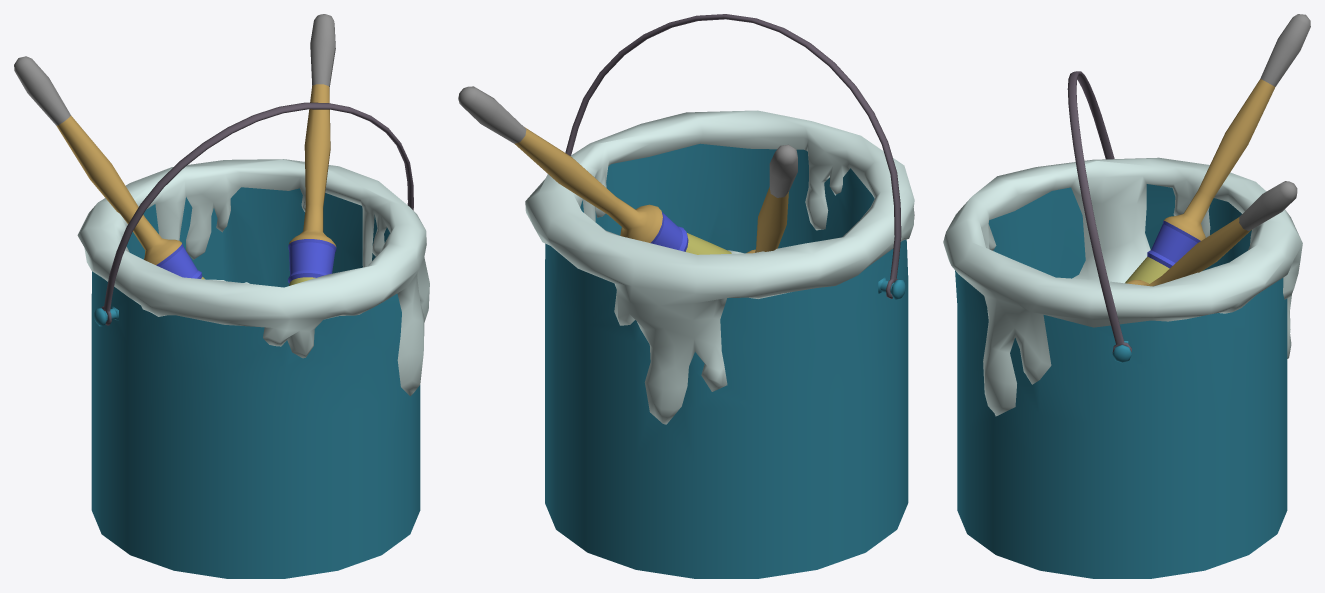
The model's file is 163_paint_bucket.glb.
The picture shows the model from 3 angles, left to right: view 1: azimuth 30°, elevation 25°; view 2: azimuth 150°, elevation 25°; view 3: azimuth 270°, elevation 25°; orthographic projection. The views are drawn at different scales.
Parts seen in each view (by area): view 1: paint bucket, paintbrush_2, paintbrush_1, handle; view 2: paint bucket, paintbrush_2, handle, paintbrush_1; view 3: paint bucket, paintbrush_1, paintbrush_2, handle.
Boxes of the visible parts, x1,y1,x2,y2 form: paint bucket: (77, 159, 429, 578); paintbrush_2: (288, 14, 336, 285); paintbrush_1: (14, 56, 204, 279); handle: (102, 102, 413, 325); paint bucket: (525, 110, 914, 578); paintbrush_2: (458, 86, 743, 254); handle: (565, 14, 901, 298); paintbrush_1: (746, 144, 797, 253); paint bucket: (943, 157, 1302, 578); paintbrush_1: (1125, 14, 1310, 283); paintbrush_2: (1126, 181, 1297, 286); handle: (1067, 71, 1131, 353).
Bounding box in the file's own units: 0.7293 × 0.9225 × 0.7223.
